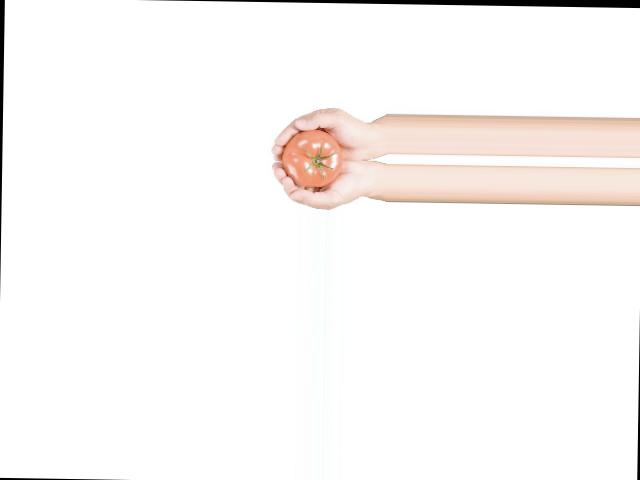tomato: (282, 128, 342, 187)
